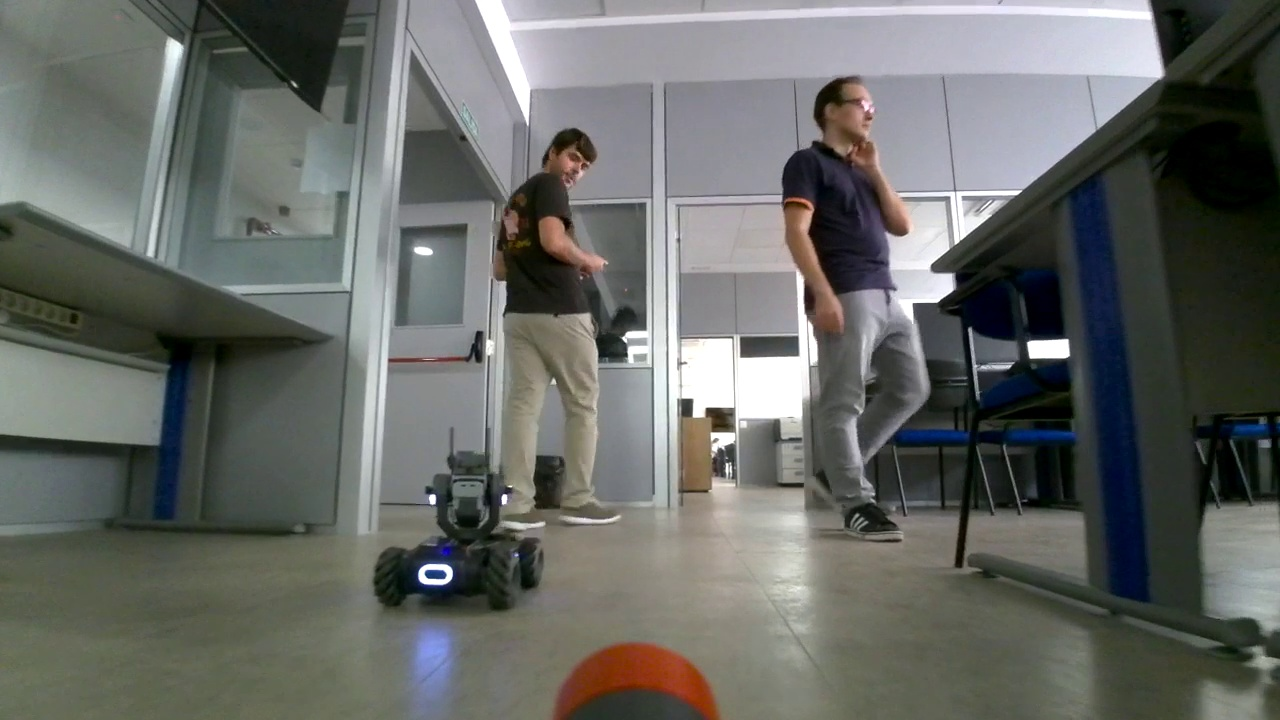robot: (373, 425, 547, 607)
